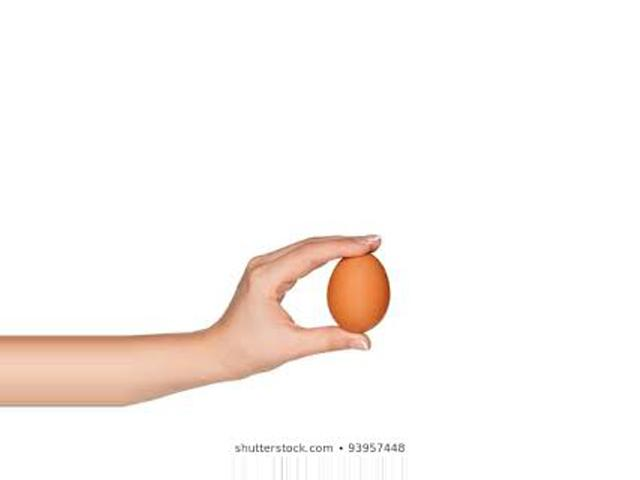egg: (328, 248, 390, 334)
